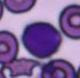L: (23, 22, 61, 58)
